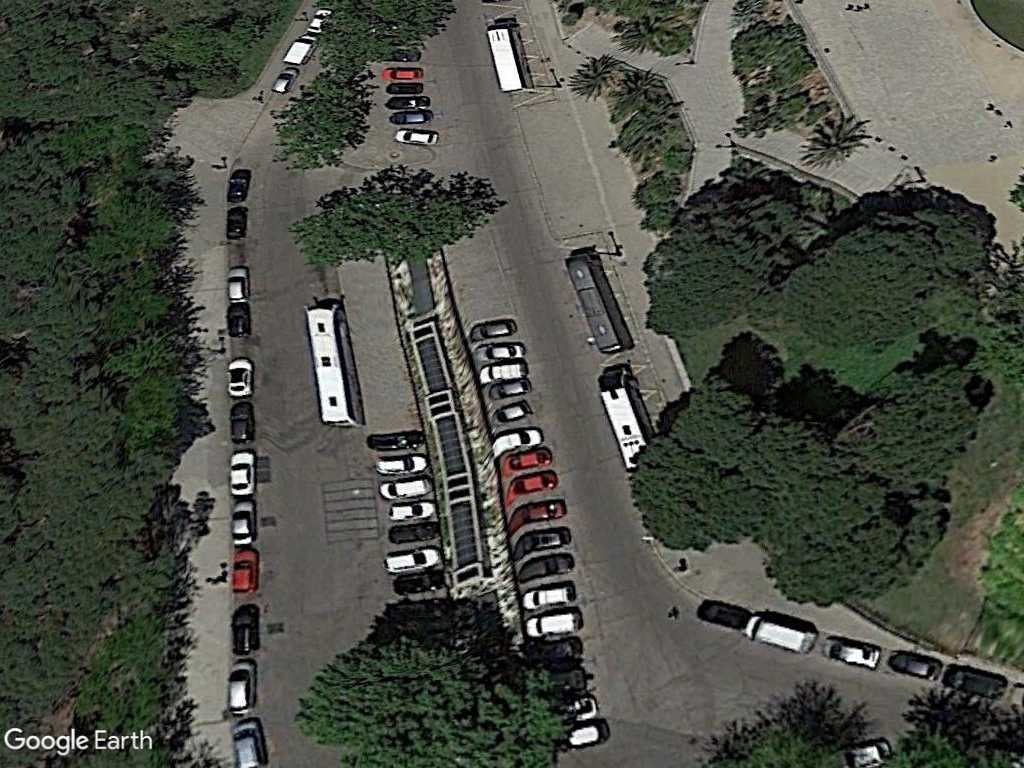bus: (303, 303, 369, 432), (560, 248, 637, 355), (597, 363, 660, 475), (484, 20, 530, 97)
car: (889, 648, 943, 683), (522, 611, 585, 638), (229, 605, 261, 658), (228, 659, 257, 717), (520, 584, 579, 610), (229, 447, 256, 499), (231, 548, 258, 600), (228, 399, 257, 446), (229, 499, 256, 548), (375, 478, 434, 500), (373, 454, 429, 477), (228, 354, 255, 400), (393, 124, 440, 148), (465, 321, 518, 342), (225, 299, 252, 337), (227, 264, 251, 305), (225, 204, 247, 242)
van: (739, 611, 823, 658)
